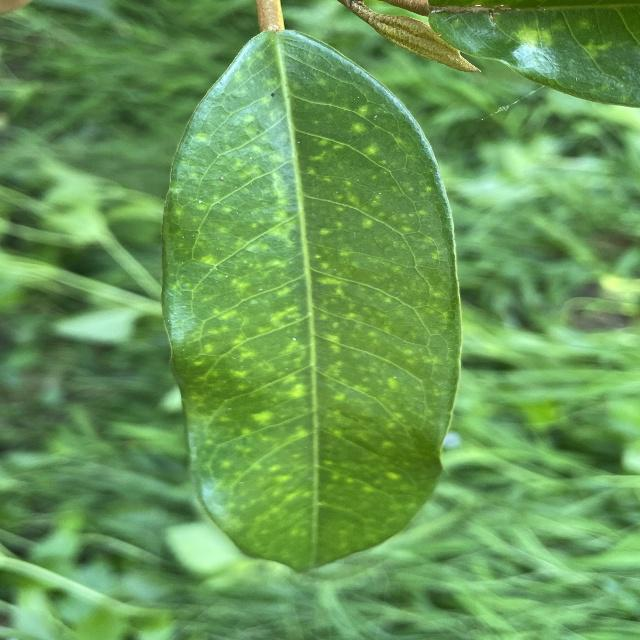Leaf Spot: (145, 21, 477, 576)
